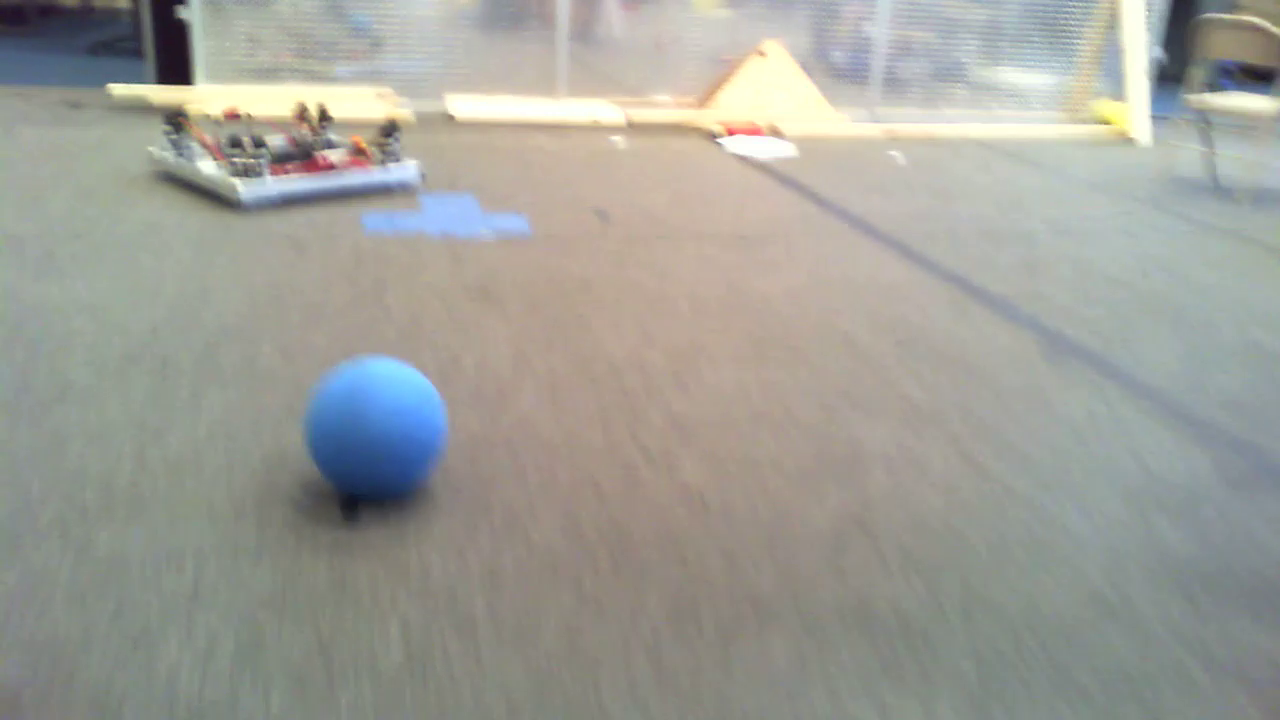blue_cargo: (303, 353, 449, 504)
